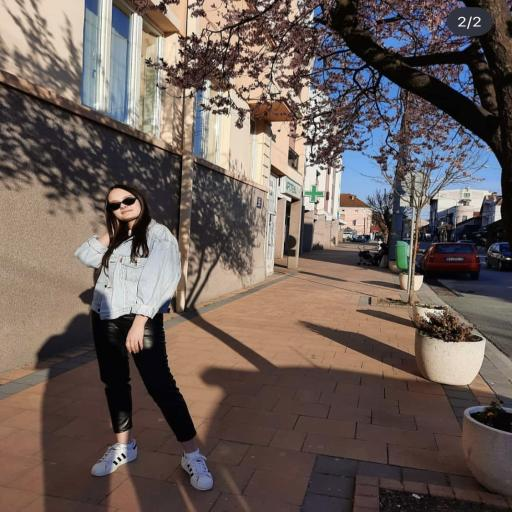marija: (105, 187, 142, 221)
